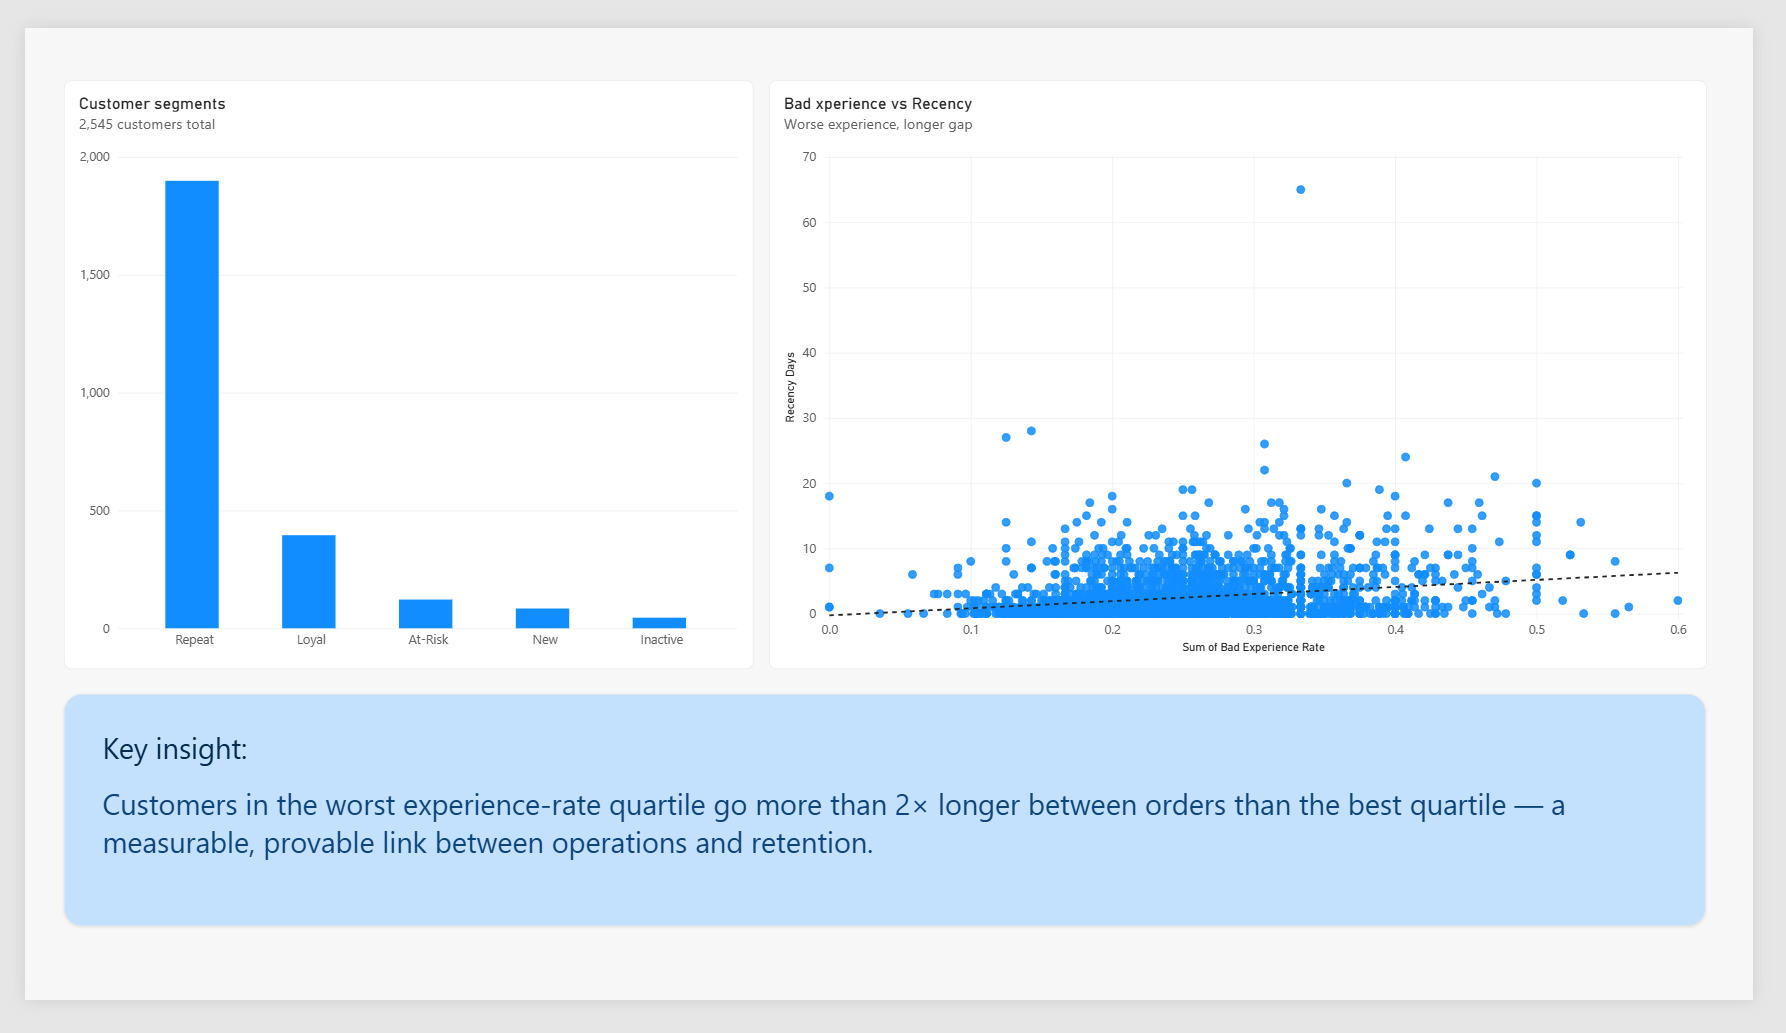

The page's visual inventory and layout, read from the dashboard file:
{"tool":"powerbi","page":{"name":"Customer intelligence","canvas":[1920,1080],"ordinal":4},"visuals":[{"type":"clusteredColumnChart","title":"Customer segments","fields":{"Category":["customers.Segment"],"Y":["CountNonNull(customers.customer_id)"]},"box":[44,58,766,654],"z":0},{"type":"scatterChart","title":"Bad xperience vs Recency","fields":{"Category":["customers.customer_id"],"X":["Sum(customers.Bad Experience Rate)"],"Y":["customers.Recency Days"]},"box":[826,58,1042,654],"z":1},{"type":"textbox","box":[44,740,1824,258],"z":2}]}

Visuals, with their boxes in screenshot pixels (x1, y1, x2, y2), scaled from the page's 1920x1080 canvas onto the 1786x1033 screenshot:
"Customer segments" clusteredColumnChart: select_region(41, 55, 753, 681)
"Bad xperience vs Recency" scatterChart: select_region(768, 55, 1738, 681)
textbox: select_region(41, 708, 1738, 955)
